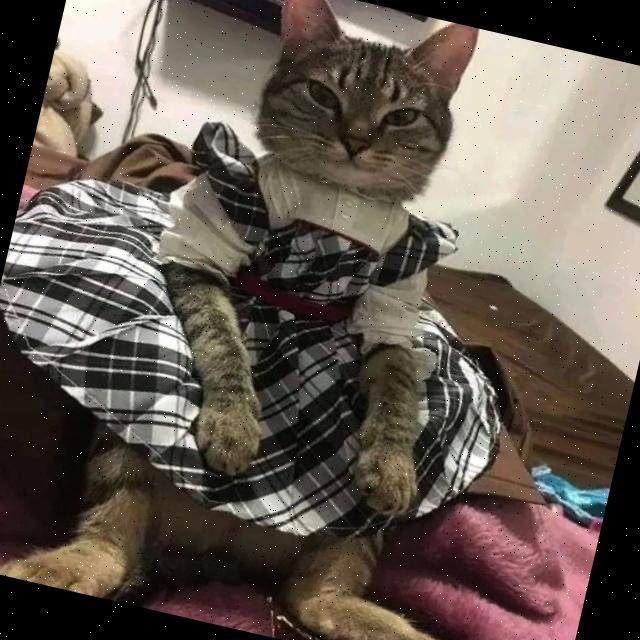Cats: (236, 0, 497, 223)
